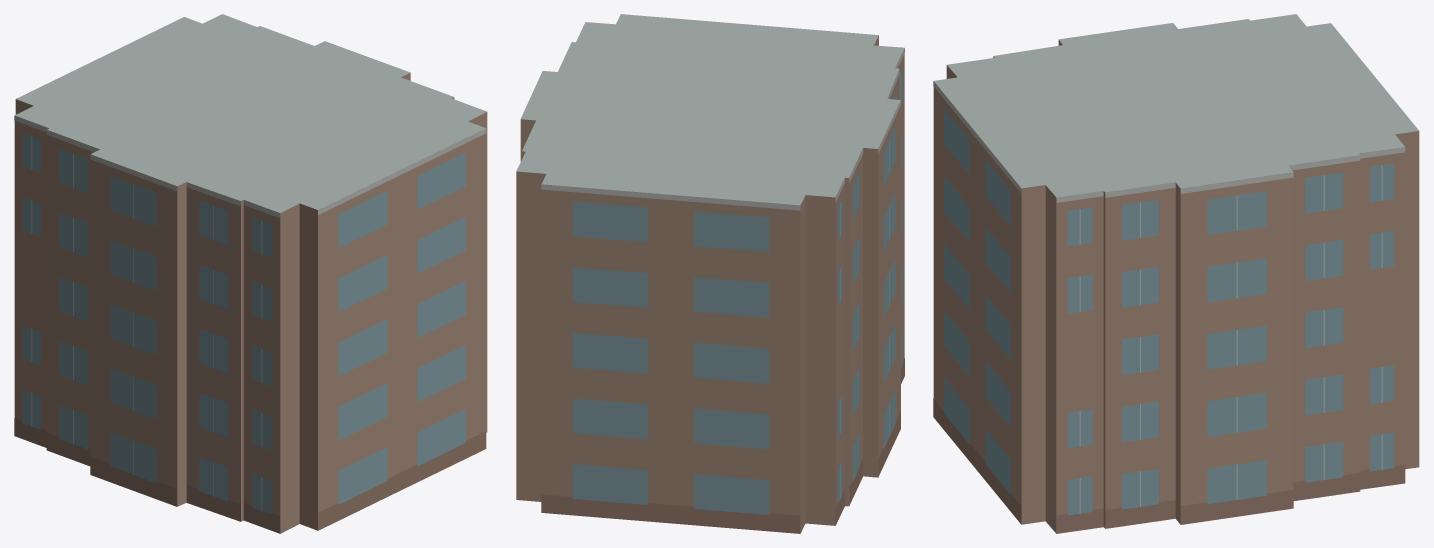
The model's file is survey-upis-32586388.glb.
The picture shows the model from 3 angles, left to right: view 1: azimuth 30°, elevation 25°; view 2: azimuth 150°, elevation 25°; view 3: azimuth 270°, elevation 25°; orthographic projection. The views are drawn at different scales.
Visible parts, largest first — view 1: survey-upis-32586388.tmp; view 2: survey-upis-32586388.tmp; view 3: survey-upis-32586388.tmp.
Part boxes in pixels (x1,y1,x2,y2): survey-upis-32586388.tmp: [14, 14, 487, 533]; survey-upis-32586388.tmp: [516, 14, 904, 533]; survey-upis-32586388.tmp: [933, 14, 1419, 533].
Size of the model in its own units: 17.86 by 15.25 by 19.97.
